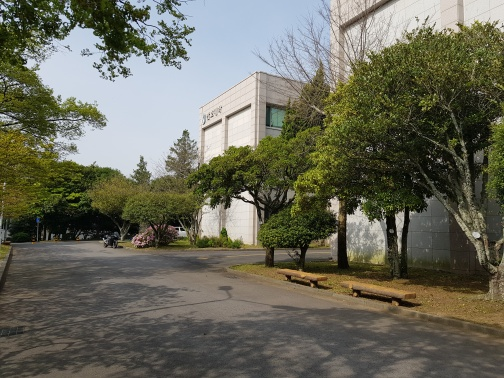College of Nursing: (186, 73, 279, 241)
